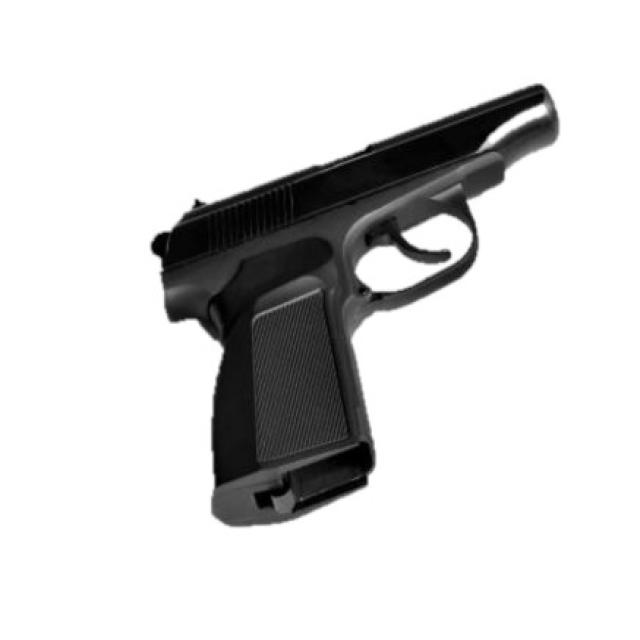pistol: (141, 85, 560, 539)
